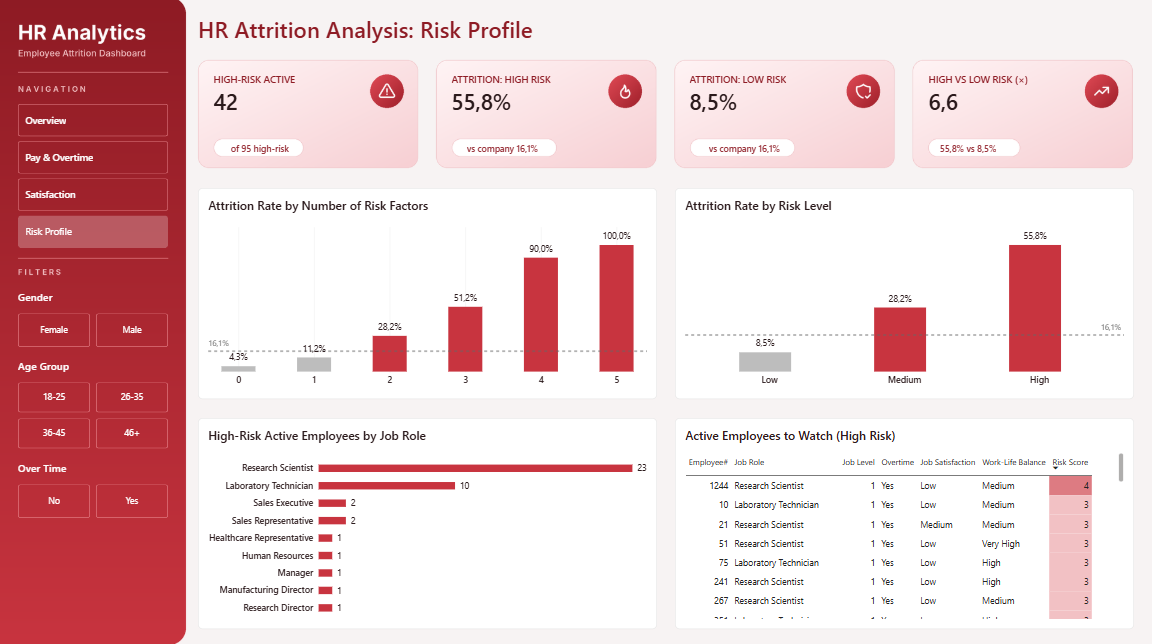

Layout of this report page (visuals, bound fields, positions):
{"tool":"powerbi","page":{"name":"Risk Profile","canvas":[1920,1080],"ordinal":3},"visuals":[{"type":"textbox","box":[330,25,1000,60],"z":0},{"type":"clusteredColumnChart","title":"Attrition Rate by Number of Risk Factors","fields":{"Category":["HR.Risk Score"],"Y":["Measure.Attrition Rate"]},"box":[330,315,765,352],"z":1000},{"type":"clusteredColumnChart","title":"Attrition Rate by Risk Level","fields":{"Category":["HR.Risk Level"],"Y":["Measure.Attrition Rate"]},"box":[1125,315,765,352],"z":2000},{"type":"clusteredBarChart","title":"High-Risk Active Employees by Job Role","fields":{"Category":["DimJobRole.JobRole"],"Y":["Measure.High Risk Active"]},"box":[330,698,765,352],"z":3000},{"type":"tableEx","title":"Active Employees to Watch (High Risk)","fields":{"Values":["HR.EmployeeNumber","DimJobRole.JobRole","HR.JobLevel","HR.OverTime","HR.JobSatisfactionLabel","HR.WorkLifeBalanceLabel","HR.Risk Score"]},"box":[1125,698,765,352],"z":4000},{"type":"cardVisual","title":"TOTAL EMPLOYEES","fields":{"Data":["Measure.High Risk Active"]},"box":[330,105,280,125],"z":5000},{"type":"cardVisual","fields":{"Data":["Measure.Attrition High Risk"]},"box":[726.6,105,302,125.5],"z":6000},{"type":"cardVisual","fields":{"Data":["Measure.Attrition Low Risk"]},"box":[1123.4,105,383.7,125.5],"z":7000},{"type":"cardVisual","fields":{"Data":["Measure.Risk Lift"]},"box":[1521.7,105,367.7,125.5],"z":8000},{"type":"advancedSlicerVisual","fields":{"Values":["HR.Gender"]},"box":[30,485,250,95],"z":9000},{"type":"advancedSlicerVisual","title":"Age Group","fields":{"Values":["HR.AgeGroup"]},"box":[30,600,250,150],"z":10000},{"type":"advancedSlicerVisual","title":"Over Time","fields":{"Values":["HR.OverTime"]},"box":[30,770,250,95],"z":11000},{"type":"cardVisual","title":"TOTAL EMPLOYEES","fields":{"Data":["Measure.Ref High Risk Total"]},"box":[356,234,220,30],"z":12000},{"type":"cardVisual","title":"TOTAL EMPLOYEES","fields":{"Data":["Measure.Ref Risk Lift"]},"box":[1537.8,233.4,154.7,30.6],"z":13000},{"type":"cardVisual","title":"TOTAL EMPLOYEES","fields":{"Data":["Measure.Ref vs Company"]},"box":[1153.3,233.3,176.7,30],"z":14000},{"type":"cardVisual","title":"TOTAL EMPLOYEES","fields":{"Data":["Measure.Ref vs Company"]},"box":[749.9,233.4,220,30],"z":15000},{"type":"pageNavigator","box":[30,175,250,240],"z":16000}]}

Visuals, with their boxes on the page's 1920x1080 design canvas (x1, y1, x2, y2). These are canvas units, not pixel positions in the 1152x644 screenshot, which may show the page scaled, cropped or inside an application window:
textbox: [330,25,1330,85]
"Attrition Rate by Number of Risk Factors" clusteredColumnChart: [330,315,1095,667]
"Attrition Rate by Risk Level" clusteredColumnChart: [1125,315,1890,667]
"High-Risk Active Employees by Job Role" clusteredBarChart: [330,698,1095,1050]
"Active Employees to Watch (High Risk)" tableEx: [1125,698,1890,1050]
"TOTAL EMPLOYEES" cardVisual: [330,105,610,230]
cardVisual - Measure.Attrition High Risk: [727,105,1029,230]
cardVisual - Measure.Attrition Low Risk: [1123,105,1507,230]
cardVisual - Measure.Risk Lift: [1522,105,1889,230]
advancedSlicerVisual - HR.Gender: [30,485,280,580]
"Age Group" advancedSlicerVisual: [30,600,280,750]
"Over Time" advancedSlicerVisual: [30,770,280,865]
"TOTAL EMPLOYEES" cardVisual: [356,234,576,264]
"TOTAL EMPLOYEES" cardVisual: [1538,233,1692,264]
"TOTAL EMPLOYEES" cardVisual: [1153,233,1330,263]
"TOTAL EMPLOYEES" cardVisual: [750,233,970,263]
pageNavigator: [30,175,280,415]
